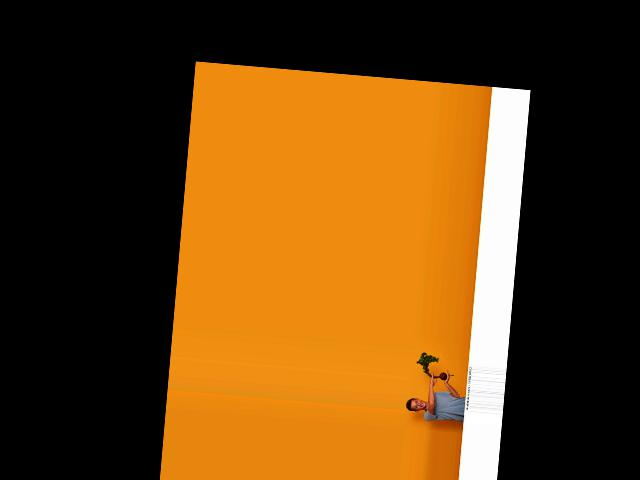beet: (415, 351, 455, 380)
